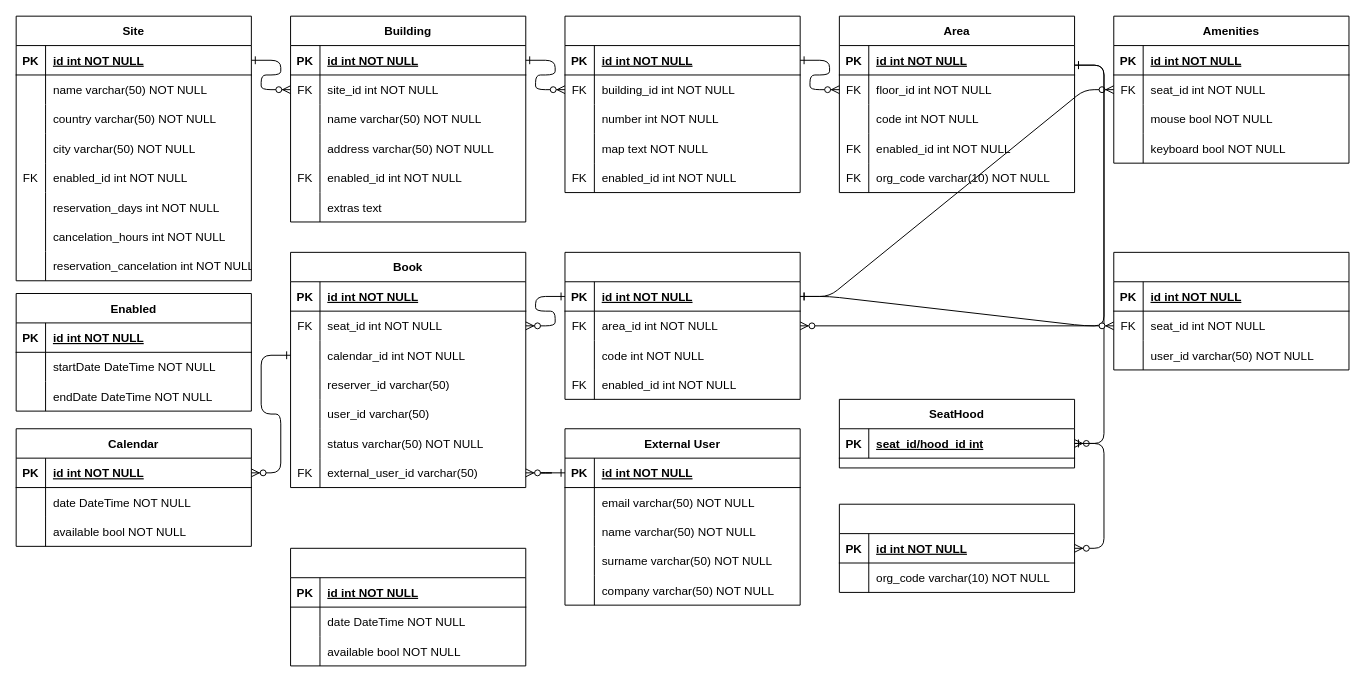
The diagram is 1365 pixels wide and 682 high, and some of its shapes have lost their labels. Here are the shapes that lost their labels. From the top down, the box of each, then its label:
(564, 15, 800, 193): Floor
(564, 251, 800, 399): Seat
(1113, 251, 1349, 370): Seat Owner
(838, 503, 1075, 592): Hood
(290, 547, 526, 666): Parking Lot (?)
